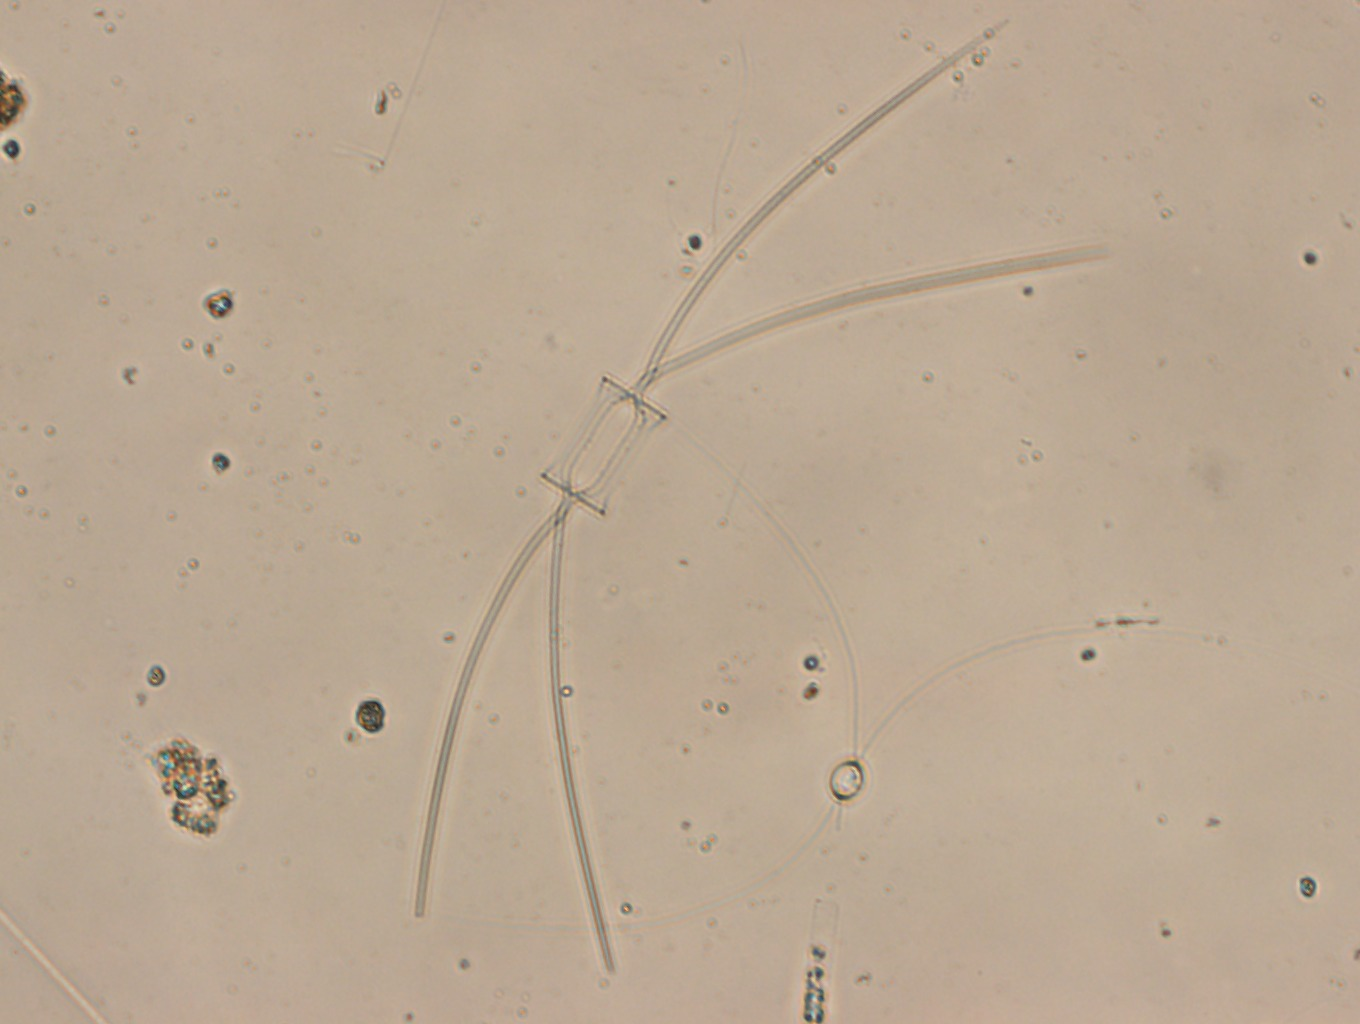chaetoceros: (393, 6, 1126, 978)
